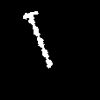half_double_crochet: (23, 11, 51, 67)
